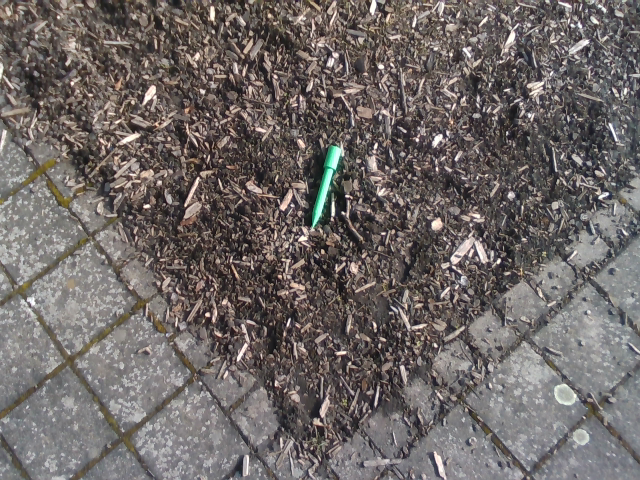Probe: (304, 142, 346, 235)
